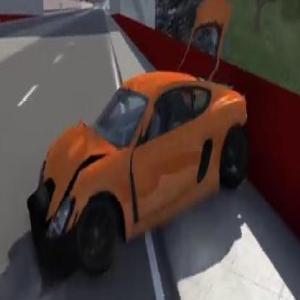minor: (22, 0, 266, 290)
